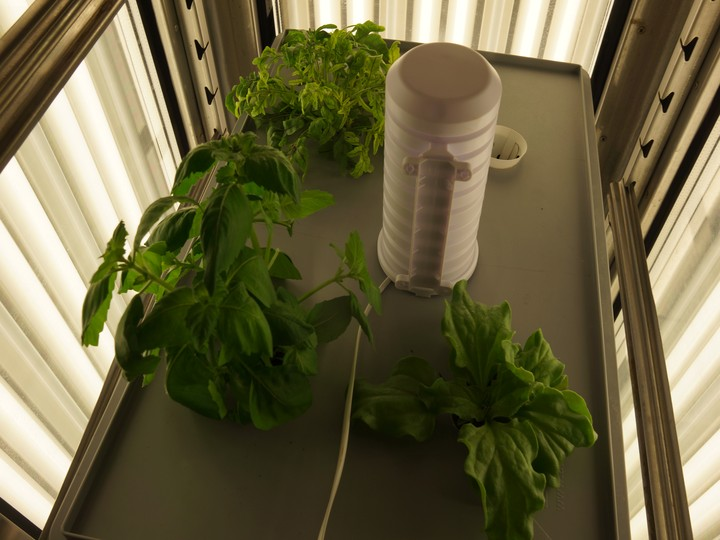basilic_blue_spice: (70, 122, 390, 439)
ficoide_glaciale: (355, 277, 611, 540)
roquette_sauvage_red_veined: (218, 19, 385, 177)
